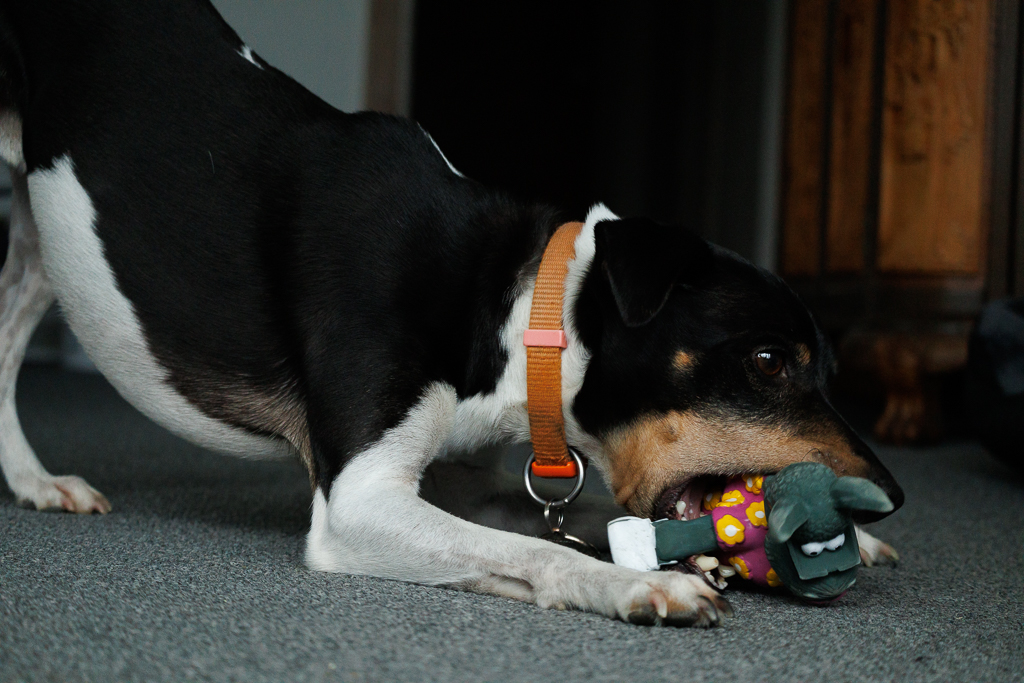Dog: (0, 0, 919, 637)
Humanoid: (598, 424, 904, 615)
